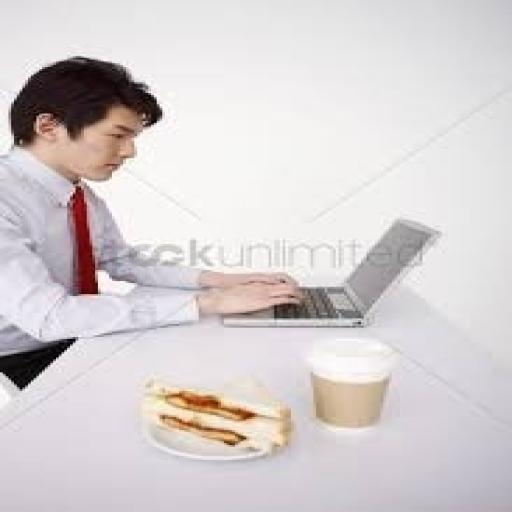using_laptop: (218, 214, 442, 330)
